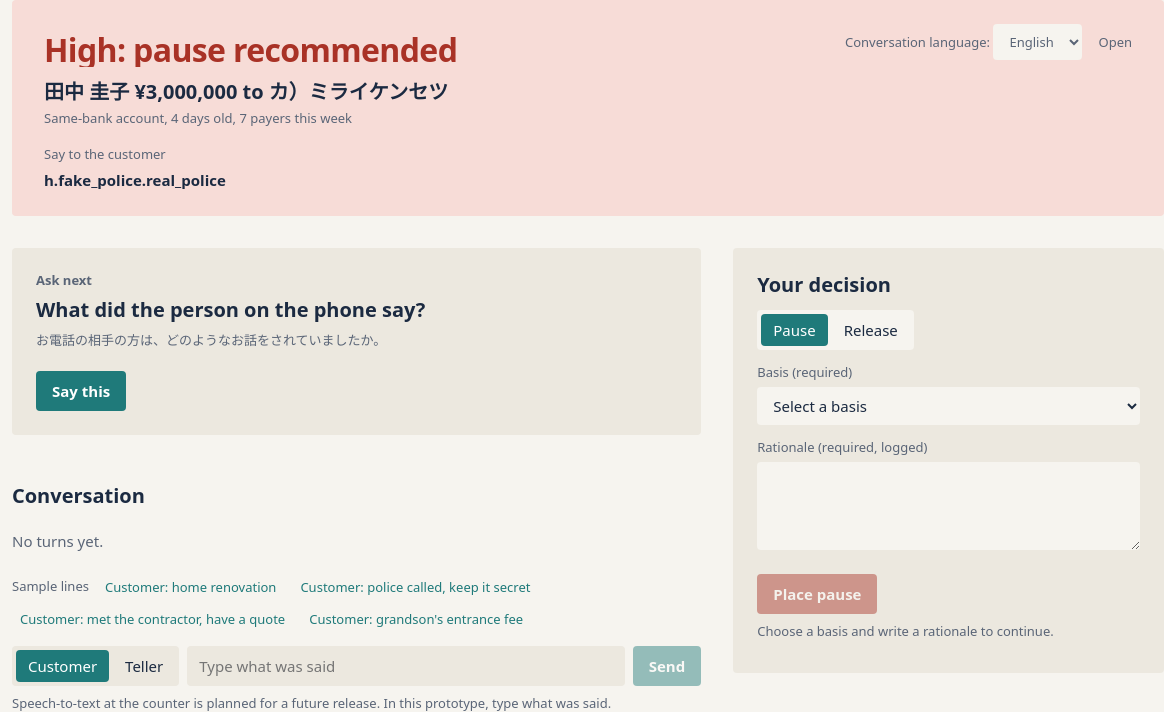
Test: counter in an English case (WI-006) › shows the English question first, and Say this fills the teller input without sending
This screenshot has width=1164, height=712.
Expected: the text "What did the person on the phone say?" is shown, [36,296,425,323]
Expected: the text "お電話の相手の方は、どのようなお話をされていましたか。" is shown, [36,331,386,349]
Click the button "Say this". click: (81, 391)
box: [36,371,126,411]
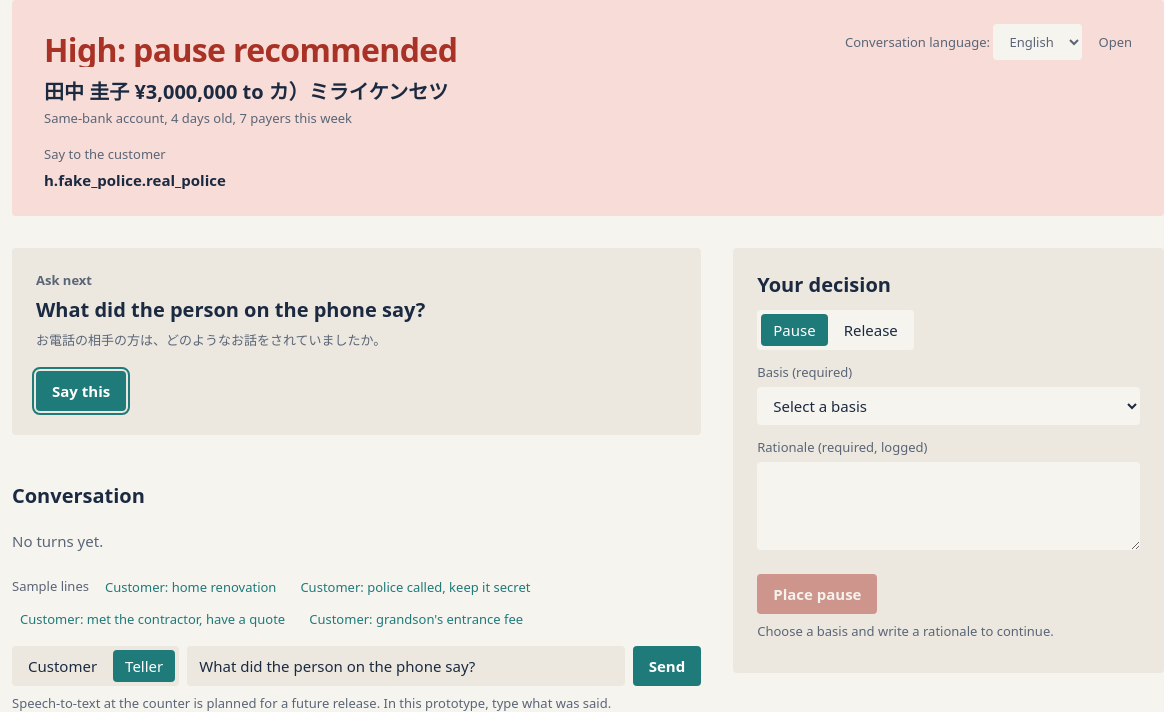
Expected: the field named "Turn text" holds "What did the person on the phone say?", [187,646,625,686]
Expected: the radio button labelled "Teller" is checked, [113,650,175,682]
